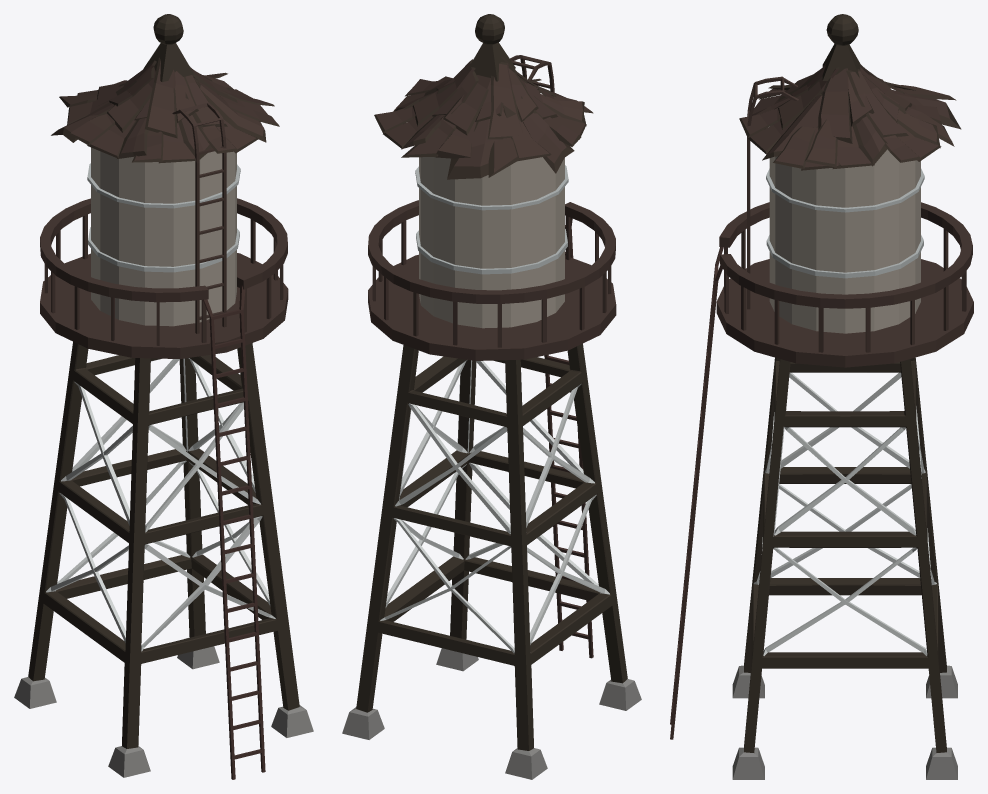
The model's file is waterTower01.glb.
3 views of the same model, side by side, from view 1: azimuth 30°, elevation 25°; view 2: azimuth 150°, elevation 25°; view 3: azimuth 270°, elevation 25° (orthographic). The views are drawn at different scales.
Visible parts, largest first — view 1: Base, WaterTank, Floor, top, stairs, secondStair, Cube; view 2: Base, WaterTank, Floor, top, stairs, Cube, secondStair; view 3: Base, WaterTank, Floor, top, stairs, Cube, secondStair.
Part boxes in pixels (x1,y1,x2,y2): Base: (14,341,313,777); WaterTank: (87,147,240,326); Floor: (40,198,288,359); top: (51,57,279,163); stairs: (203,285,265,779); secondStair: (172,102,226,333); Cube: (143,14,193,82); Base: (342,343,641,779); WaterTank: (415,157,568,328); Floor: (368,200,616,360); top: (374,56,593,179); stairs: (544,218,593,658); Cube: (466,14,515,81); secondStair: (510,55,554,92); Base: (732,357,957,779); WaterTank: (766,149,924,333); Floor: (716,202,973,367); top: (739,63,961,170); stairs: (670,247,723,739); Cube: (822,14,860,80); secondStair: (747,76,798,309).
Size of the model in its own units: 15.97 by 49.23 by 18.86.
Materials: 1 (1 with a texture image).
